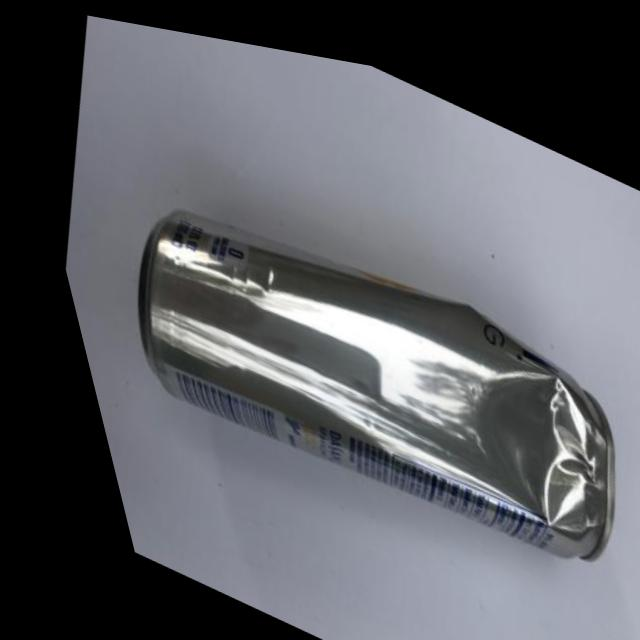metal: (14, 73, 640, 640)
